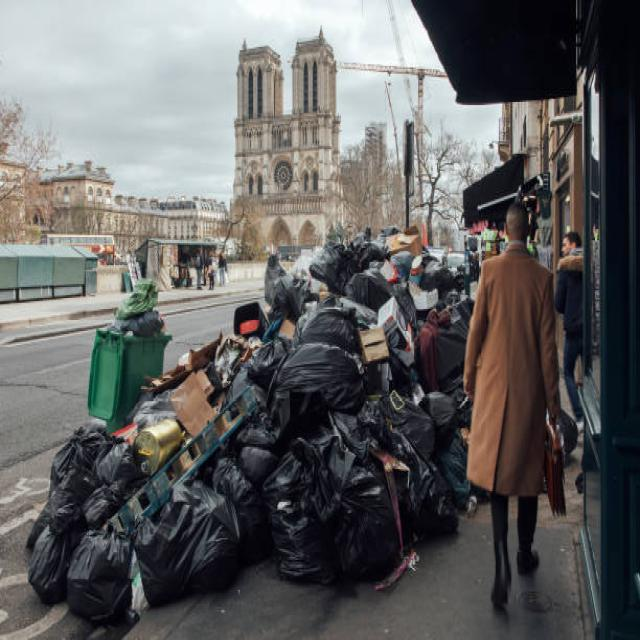trash: (45, 230, 467, 594)
